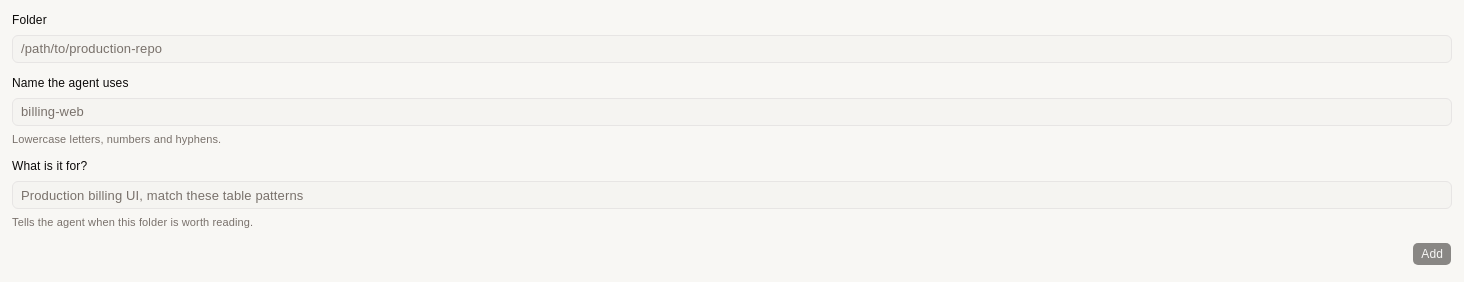
Test: AddReferenceDirectory — inspect on blur › fills the path field and prefills the name with suggestedName on a successful inspect
The image size is (1464, 282).
Type "/repos/billing-web" into the field with test id "reference-dir-path".
click(732, 49); type("/repos/billing-web")  # box [12,35,1452,63]
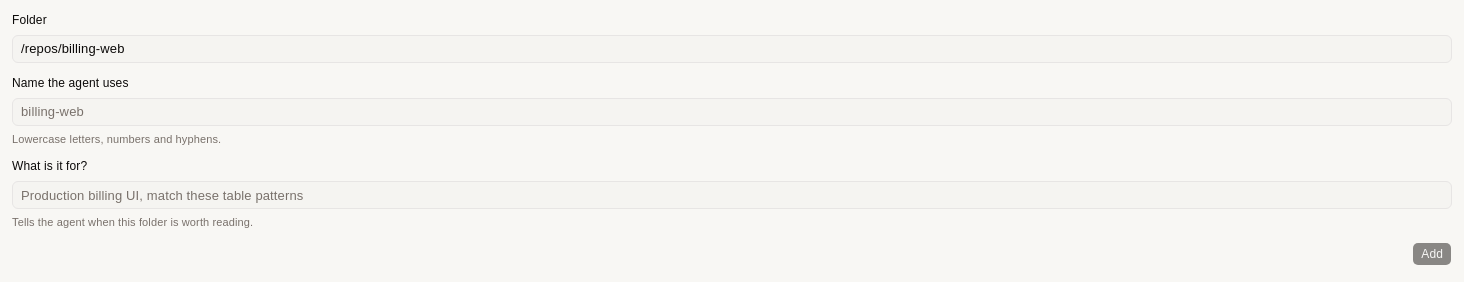
Leave the field with test id "reference-dir-path", box [12,35,1452,63]
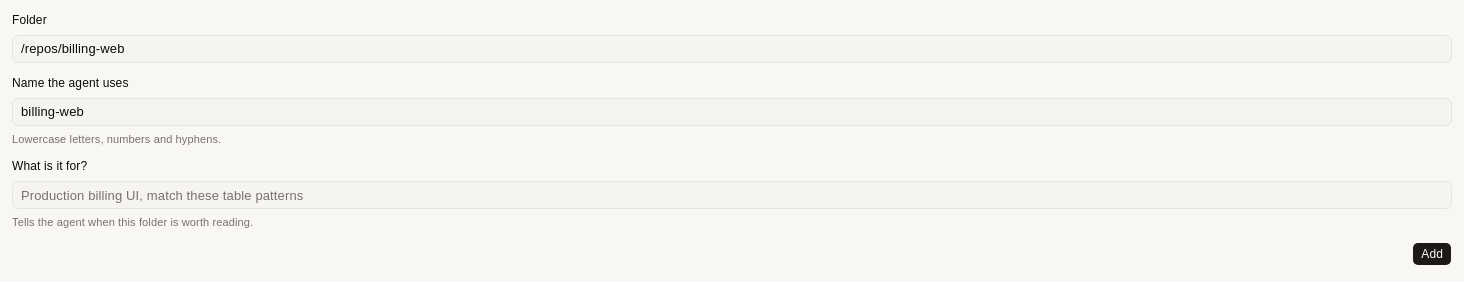
Check: the field with test id "reference-dir-name" holds "billing-web", box [12,98,1452,126]
